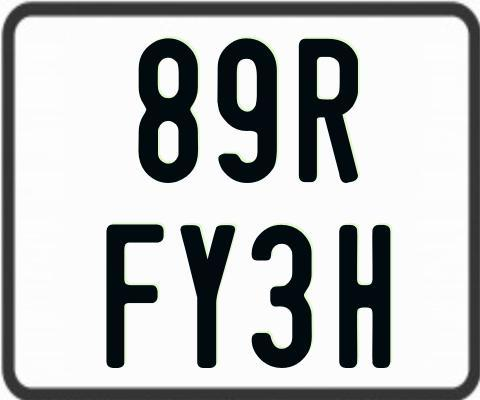3: (250, 225, 311, 373)
8: (137, 38, 200, 188)
9: (214, 38, 276, 187)
F: (104, 222, 165, 372)
H: (339, 223, 396, 367)
R: (297, 37, 360, 181)
Y: (181, 225, 238, 371)
